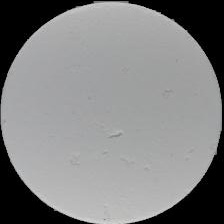0591-3543: (0, 0, 224, 224)
